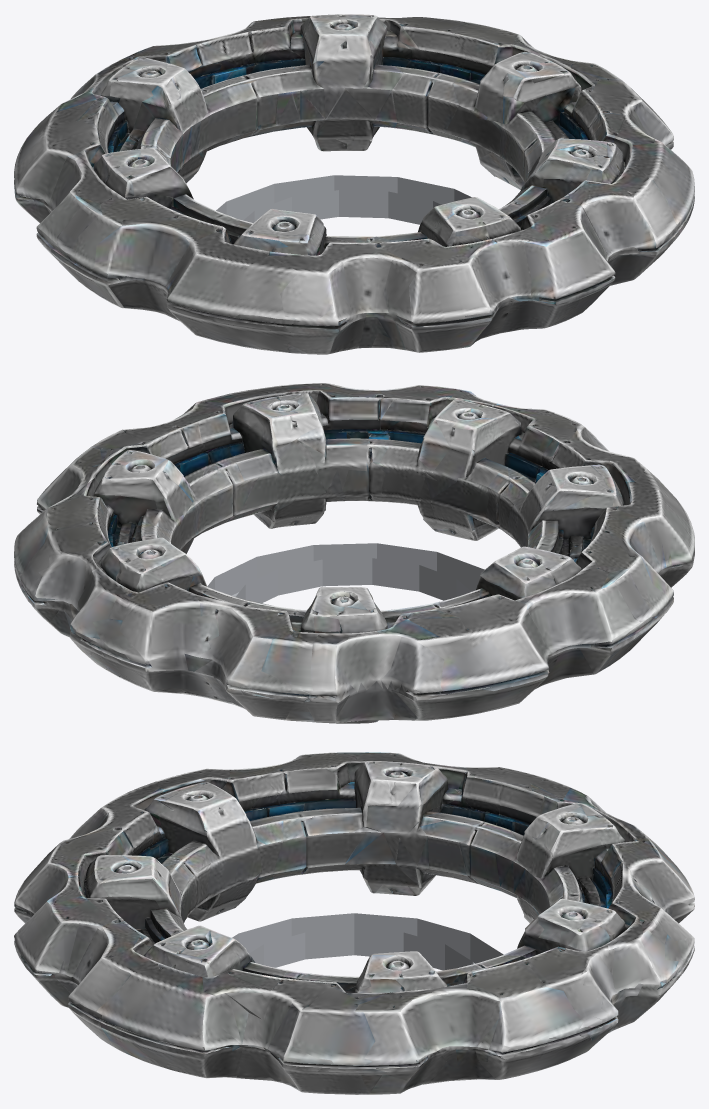
Rendered from crest.glb.
3 views of the same model, one above another, from view 1: azimuth 30°, elevation 25°; view 2: azimuth 150°, elevation 25°; view 3: azimuth 270°, elevation 25° (orthographic).
Visible parts, largest first — view 1: mesh_node; view 2: mesh_node; view 3: mesh_node.
Boxes of the visible parts, x1,y1,x2,y2 form: mesh_node: [14, 14, 694, 354]; mesh_node: [14, 383, 694, 723]; mesh_node: [14, 752, 694, 1094].
Size of the model in its own units: 45.69 by 10.72 by 45.73.
Materials: 2 (1 with a texture image).
